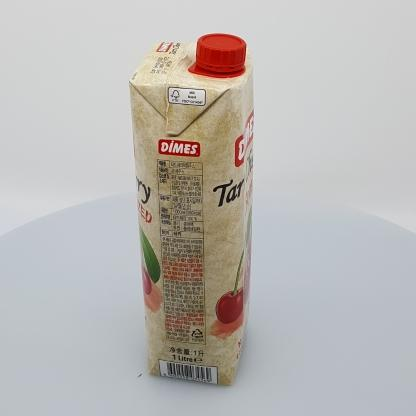DIMES--------1000ML: (129, 33, 254, 386)
